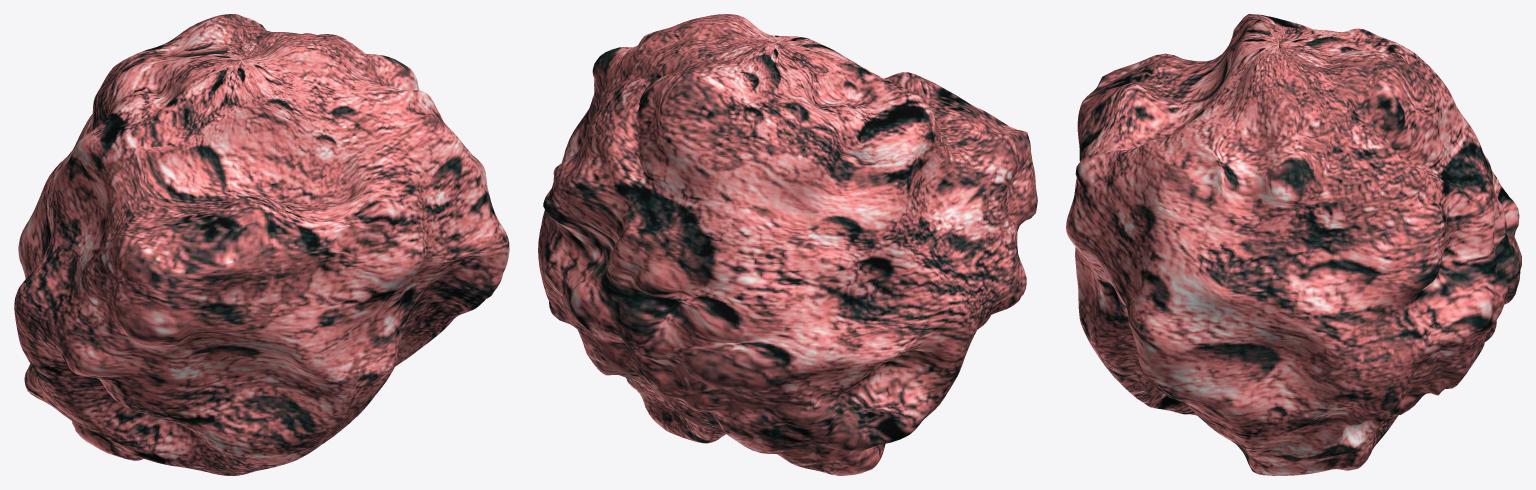
File: Meteor_2_FBX.fbx
The picture shows the model from 3 angles, left to right: view 1: azimuth 30°, elevation 25°; view 2: azimuth 150°, elevation 25°; view 3: azimuth 270°, elevation 25°; orthographic projection. The views are drawn at different scales.
Visible parts, largest first — view 1: Meteor_2_transform; view 2: Meteor_2_transform; view 3: Meteor_2_transform.
Boxes of the visible parts, bbox=[...] form: Meteor_2_transform: bbox=[14, 14, 509, 475]; Meteor_2_transform: bbox=[538, 14, 1037, 475]; Meteor_2_transform: bbox=[1066, 14, 1521, 475].
Size of the model in its own units: 21.87 by 19.63 by 19.73.
1 material, 1 textured.
